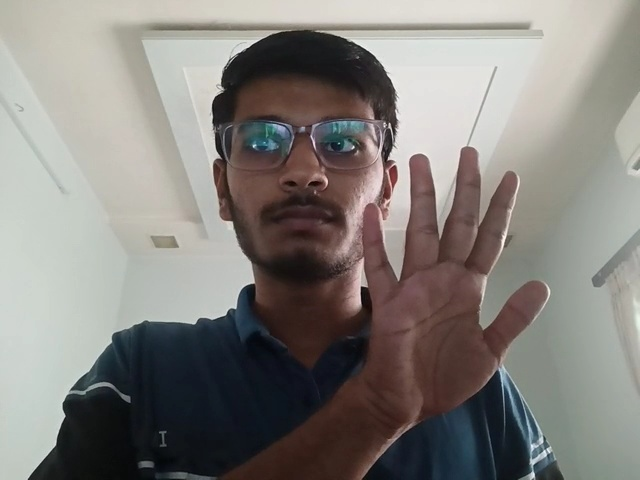Hello: (352, 141, 553, 426)
